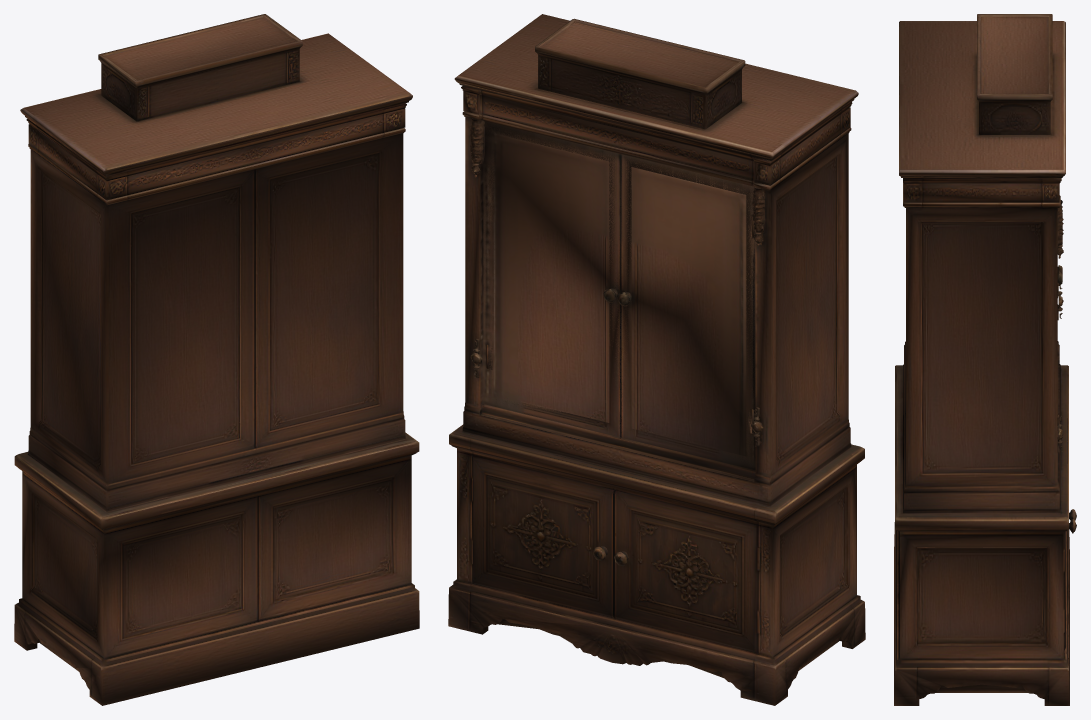
The model's file is furniture-shrine-cabinet.glb.
3 views of the same model, side by side, from view 1: azimuth 30°, elevation 25°; view 2: azimuth 150°, elevation 25°; view 3: azimuth 270°, elevation 25° (orthographic). The views are drawn at different scales.
Visible parts, largest first — view 1: tripo_node_f59c8d43-edd4-4863-91eb-4e3af13b2d05; view 2: tripo_node_f59c8d43-edd4-4863-91eb-4e3af13b2d05; view 3: tripo_node_f59c8d43-edd4-4863-91eb-4e3af13b2d05.
Boxes of the visible parts, x1=… form: tripo_node_f59c8d43-edd4-4863-91eb-4e3af13b2d05: x1=14, y1=14, x2=419, y2=705; tripo_node_f59c8d43-edd4-4863-91eb-4e3af13b2d05: x1=448, y1=14, x2=865, y2=705; tripo_node_f59c8d43-edd4-4863-91eb-4e3af13b2d05: x1=894, y1=14, x2=1076, y2=705.
Bounding box in the file's own units: 1.3 × 2.25 × 0.65.
Materials: 1 (1 with a texture image).
